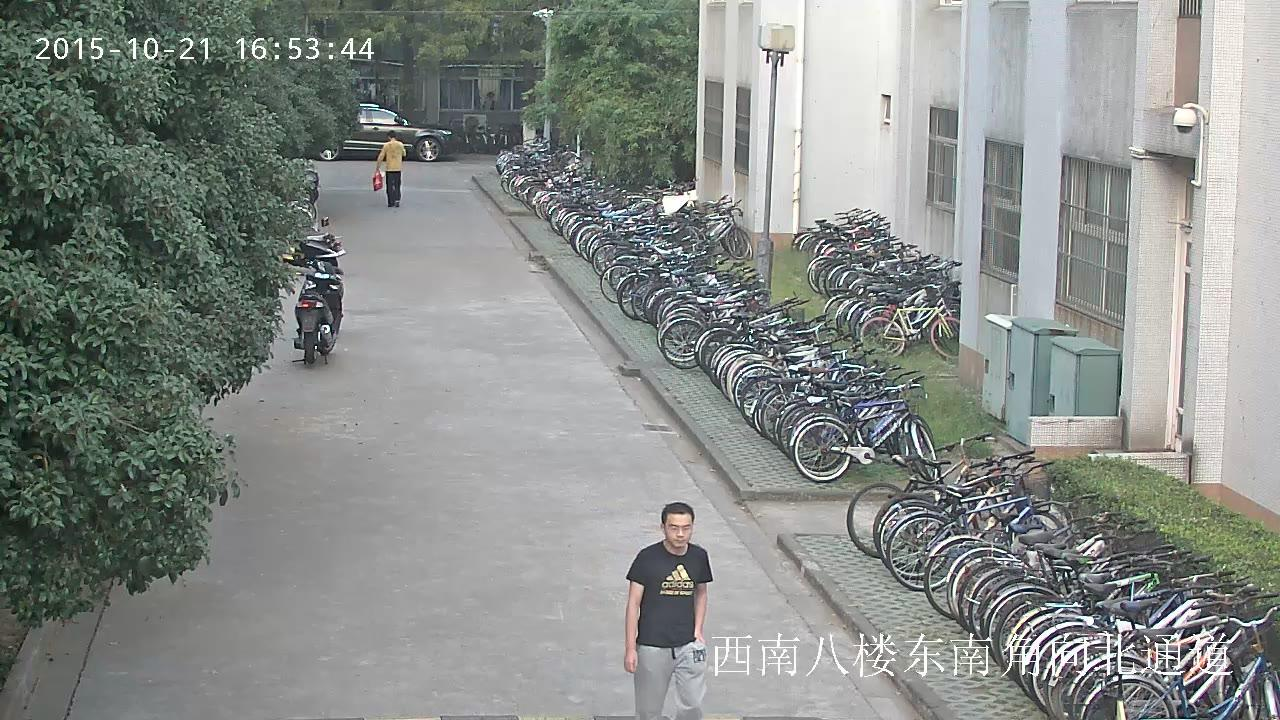person: (624, 502, 713, 720), (373, 129, 407, 207)
